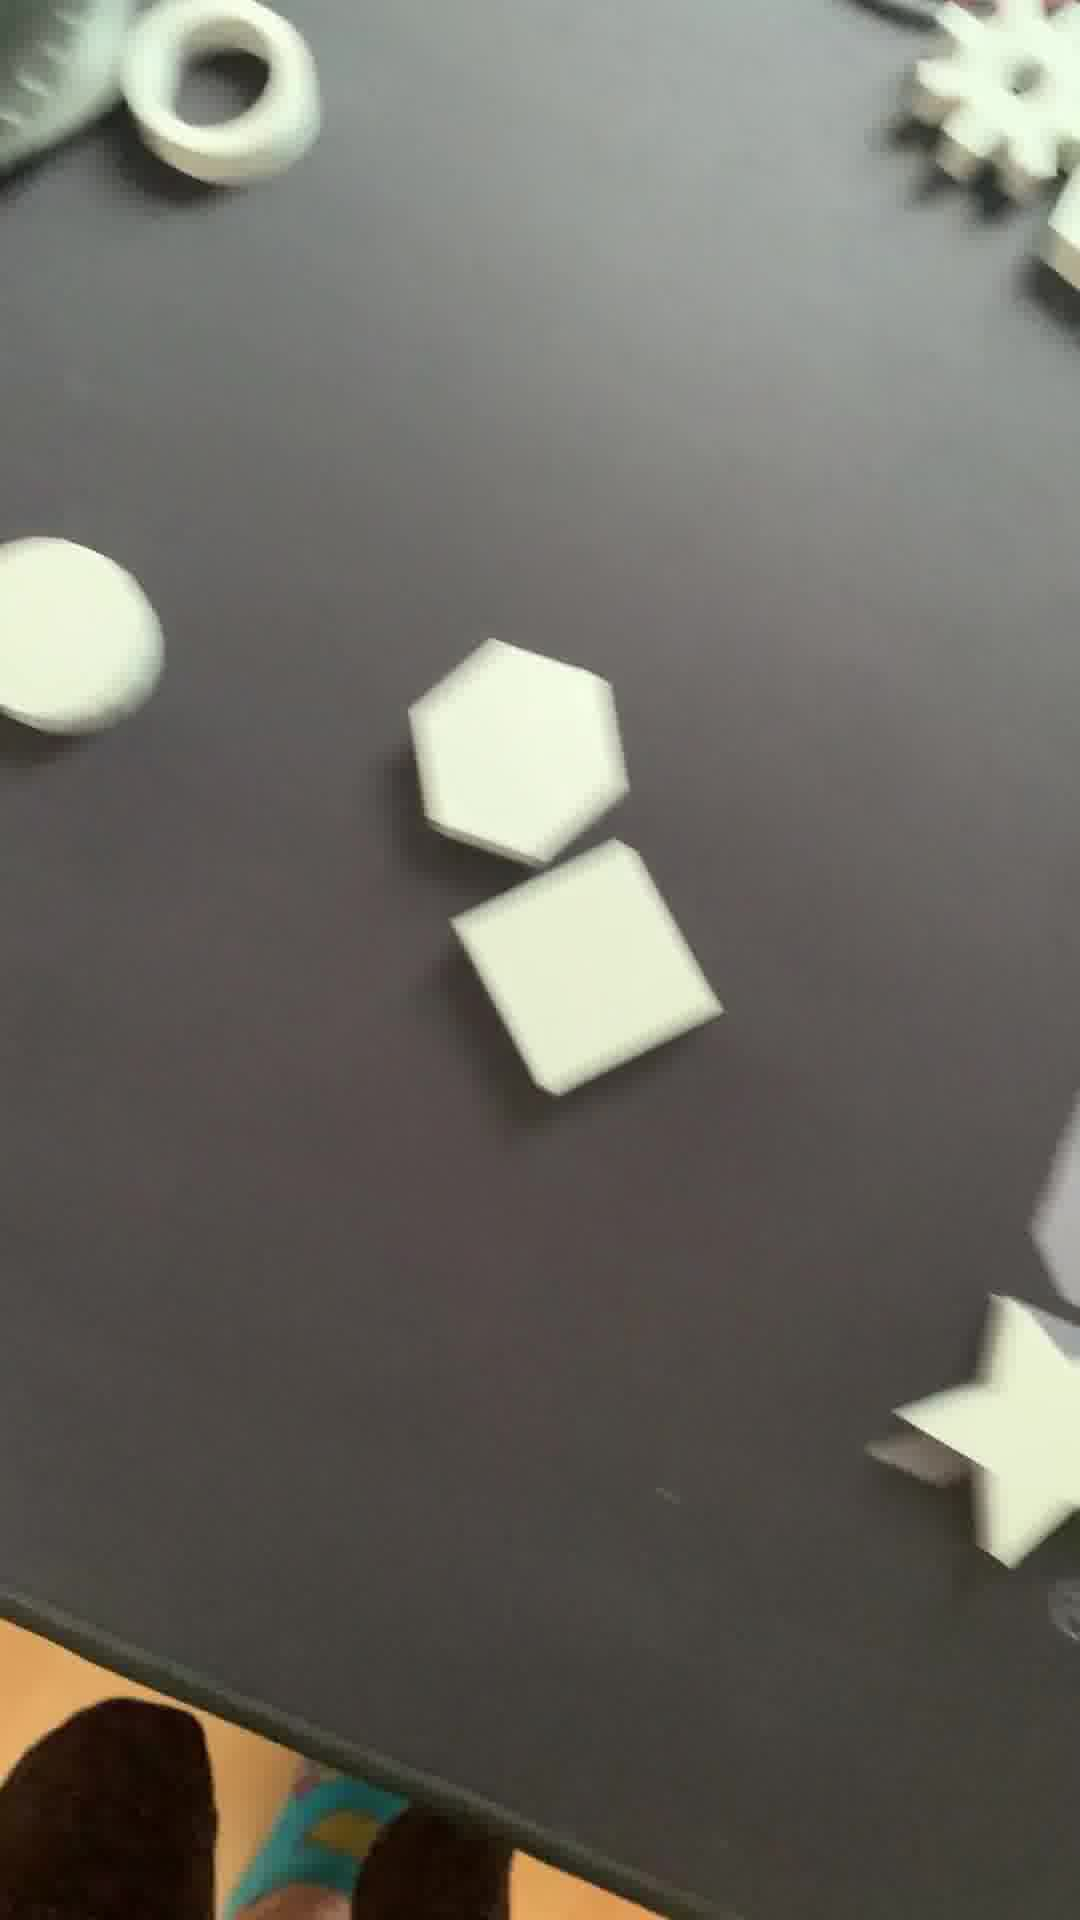Gray circle: (1, 541, 175, 769)
Gray gear: (891, 1, 1080, 199)
Gray hexagon: (409, 626, 640, 884)
Gray ring: (123, 8, 339, 225)
Gray square: (440, 837, 741, 1098)
Gray star: (887, 1288, 1080, 1577)
